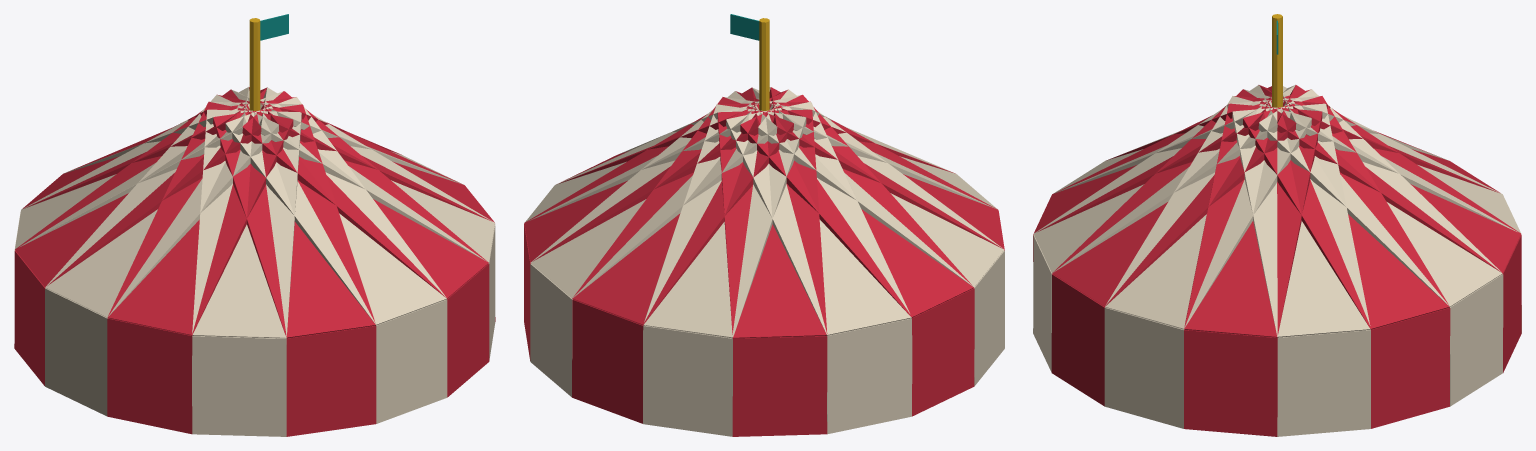
Rendered from big_top.glb.
3 renders of one model, left to right at view 1: azimuth 30°, elevation 25°; view 2: azimuth 150°, elevation 25°; view 3: azimuth 270°, elevation 25°, orthographic.
Parts seen in each view (by area): view 1: big_top; view 2: big_top; view 3: big_top.
Boxes of the visible parts, x1,y1,x2,y2 form: big_top: (14,14,495,436); big_top: (524,14,1004,436); big_top: (1033,14,1521,436).
Size of the model in its own units: 22.31 by 16 by 22.32.
